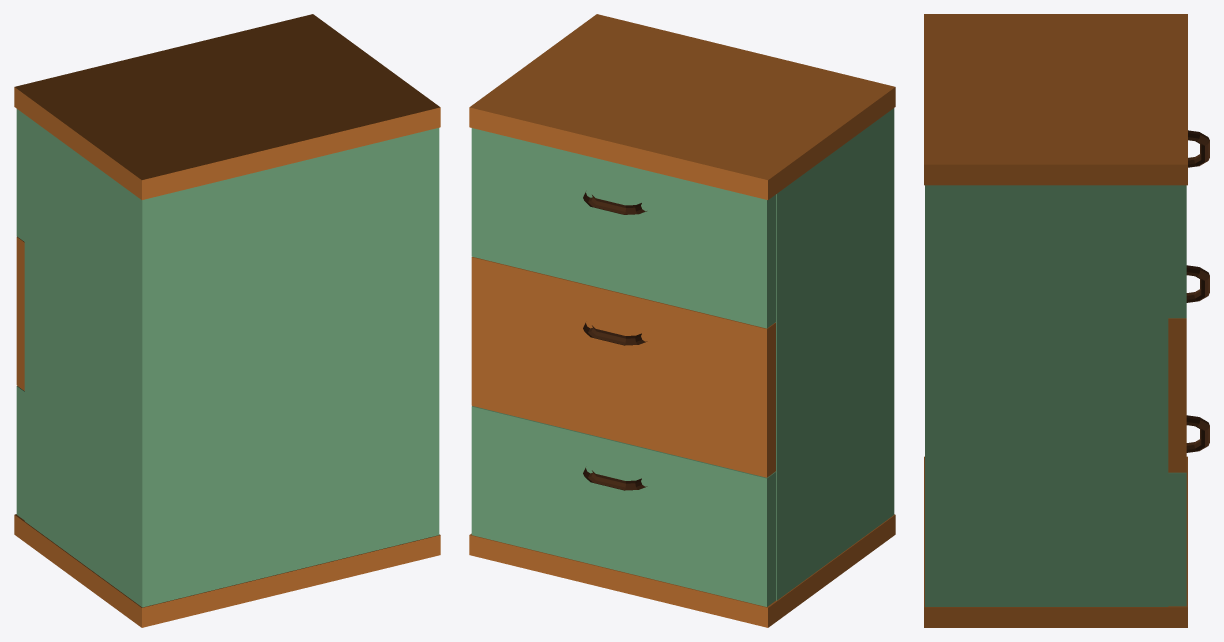
The model's file is Cabinet 2.fbx.
The picture shows the model from 3 angles, left to right: view 1: azimuth 30°, elevation 25°; view 2: azimuth 150°, elevation 25°; view 3: azimuth 270°, elevation 25°; orthographic projection. The views are drawn at different scales.
Visible parts, largest first — view 1: Node 0, Node 2, Node 3, Node 1; view 2: Node 0, Node 2, Node 3, Node 1; view 3: Node 0, Node 2, Node 3, Node 1.
Part boxes in pixels (left/top/right/bottom): Node 0: left=14, top=14, right=440, bottom=627; Node 2: left=16, top=236, right=24, bottom=390; Node 3: left=16, top=386, right=24, bottom=520; Node 1: left=16, top=109, right=24, bottom=241; Node 0: left=469, top=14, right=895, bottom=627; Node 2: left=471, top=257, right=775, bottom=477; Node 3: left=471, top=406, right=775, bottom=606; Node 1: left=471, top=128, right=775, bottom=328; Node 0: left=924, top=14, right=1187, bottom=627; Node 2: left=1168, top=265, right=1209, bottom=472; Node 3: left=1168, top=415, right=1209, bottom=606; Node 1: left=1168, top=130, right=1209, bottom=318.
Size of the model in its own units: 0.5714 by 1.02 by 0.7134.
